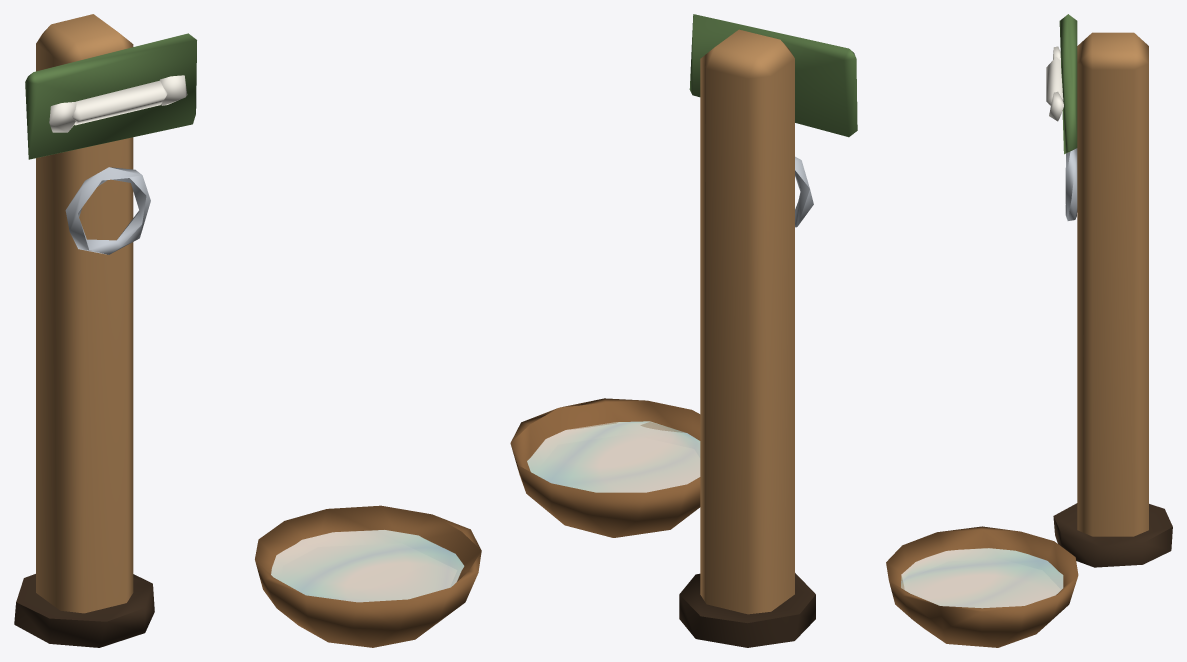
The model's file is dog_bowl_post.glb.
3 renders of one model, left to right at view 1: azimuth 30°, elevation 25°; view 2: azimuth 150°, elevation 25°; view 3: azimuth 270°, elevation 25°, orthographic. The views are drawn at different scales.
Parts seen in each view (by area): view 1: dog_bowl_post; view 2: dog_bowl_post; view 3: dog_bowl_post.
Part boxes in pixels (left/top/right/bottom): dog_bowl_post: left=14, top=14, right=481, bottom=647; dog_bowl_post: left=510, top=14, right=857, bottom=647; dog_bowl_post: left=886, top=14, right=1172, bottom=647.
Bounding box in the file's own units: 0.6509 × 0.93 × 0.4821.
